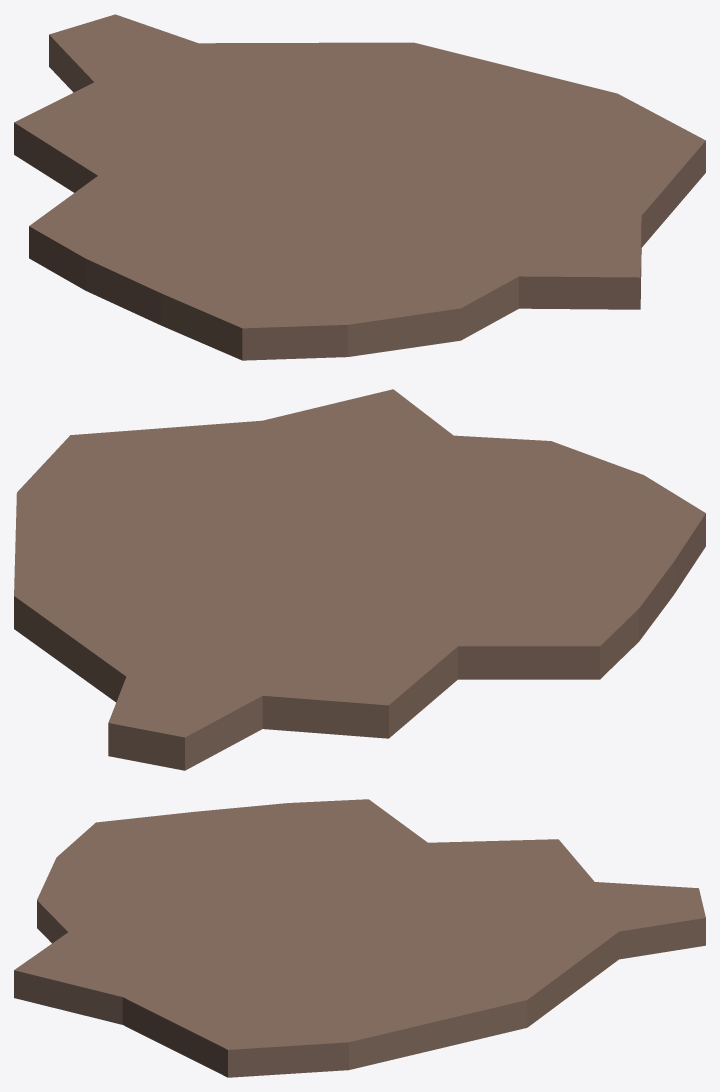
The model's file is SM_island04.fbx.
3 views of the same model, one above another, from view 1: azimuth 30°, elevation 25°; view 2: azimuth 150°, elevation 25°; view 3: azimuth 270°, elevation 25° (orthographic). The views are drawn at different scales.
Visible parts, largest first — view 1: SM_island04; view 2: SM_island04; view 3: SM_island04.
Boxes of the visible parts, x1,y1,x2,y2 form: SM_island04: [14, 14, 705, 360]; SM_island04: [14, 389, 705, 770]; SM_island04: [14, 799, 705, 1077].
Bounding box in the file's own units: 2346 × 121 × 2736.
